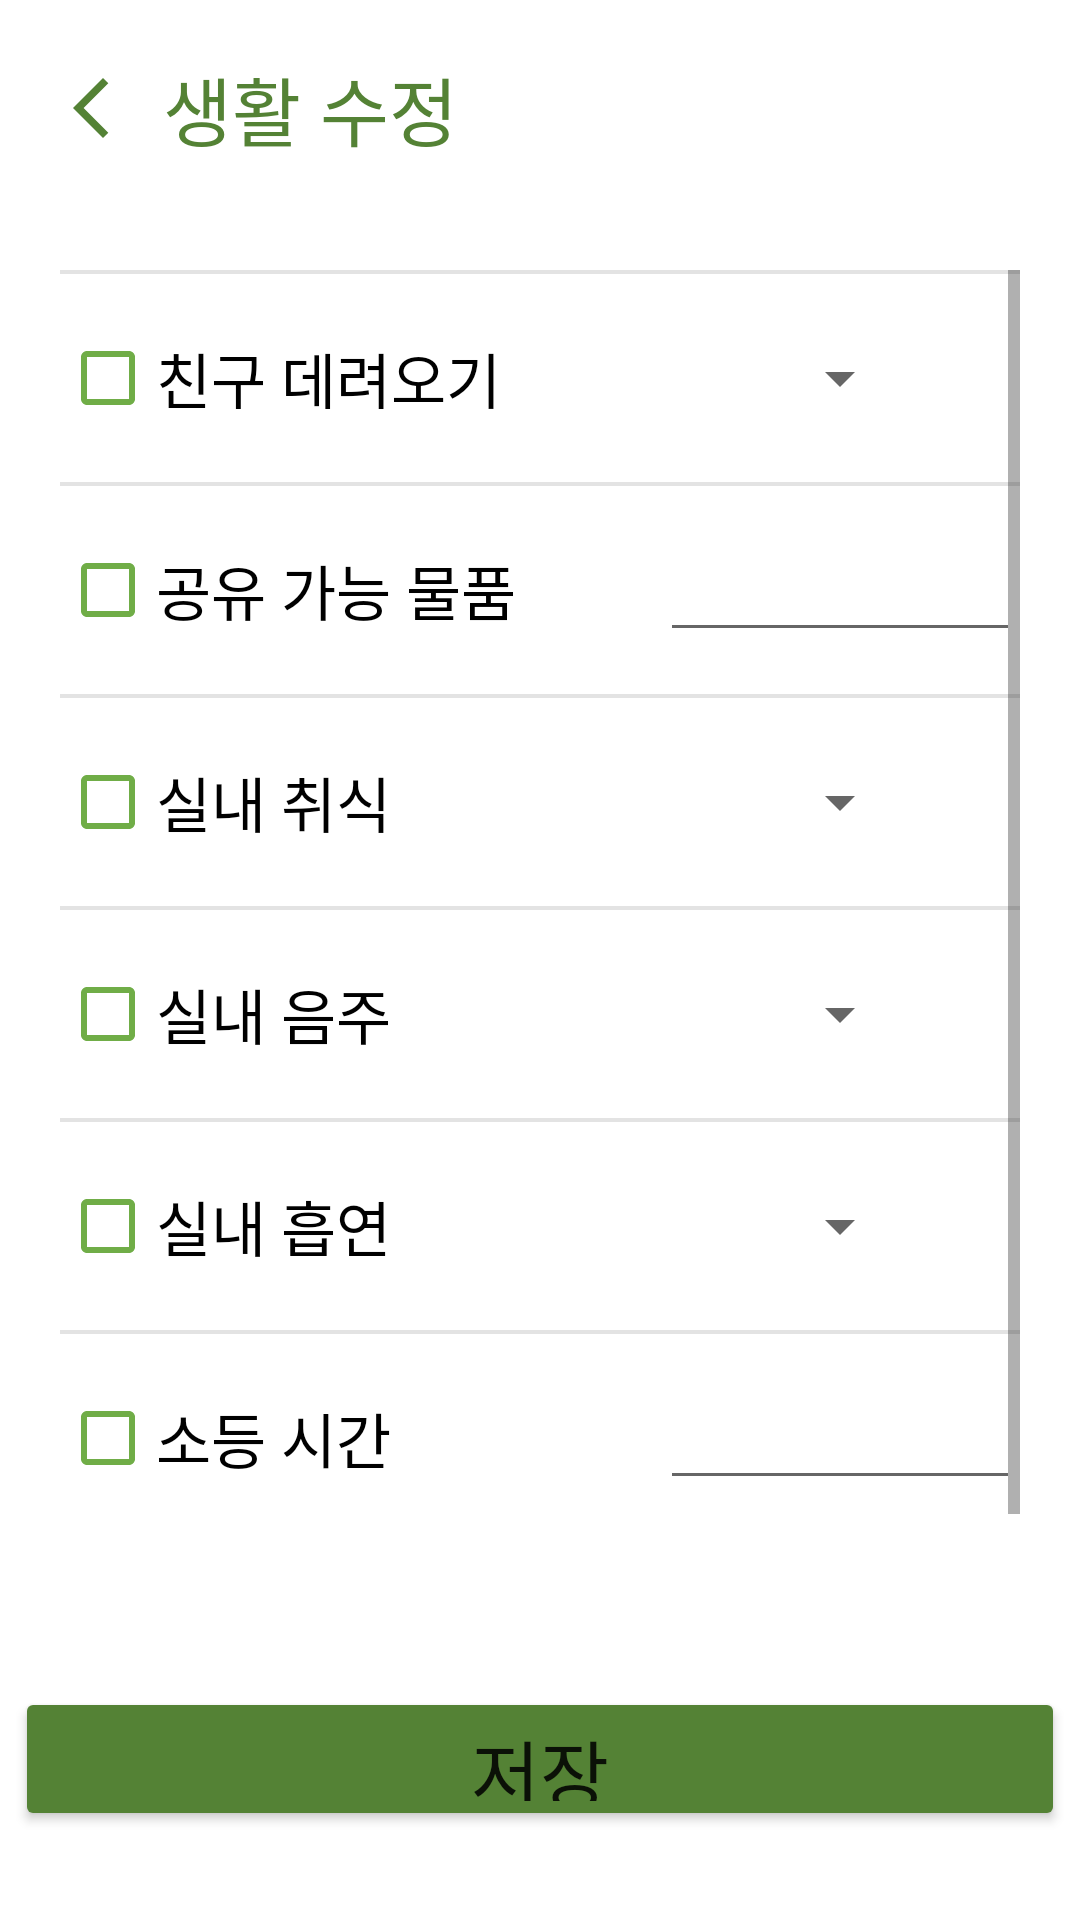

Icon bounding boxes for this 1080 x 1920 phone screenshot, format bbox=[x1, y1, x2, y2]:
back: bbox=[73, 78, 108, 138]
